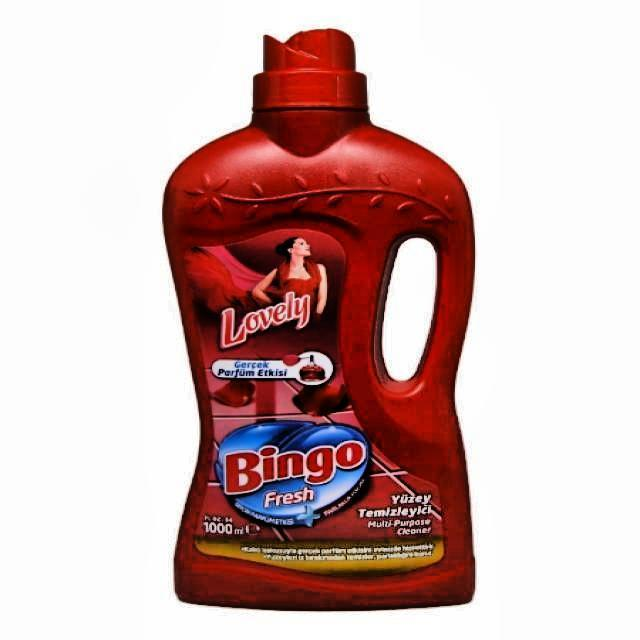plastic: (164, 29, 479, 614)
